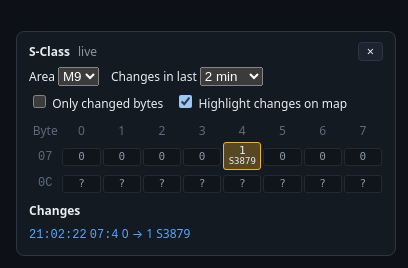
Test case: SClassMiniPanel (Milestone 65) › live: shows the bits and changes, and highlights what just changed and what's picked
expect the text "S3879" is shown: met, box [229, 156, 256, 166]
# Turning off change highlighting and picking the route bit highlights just the route.
Click the checkbox labelled "Highlight changes on map" at (186, 101), box [179, 95, 192, 108]
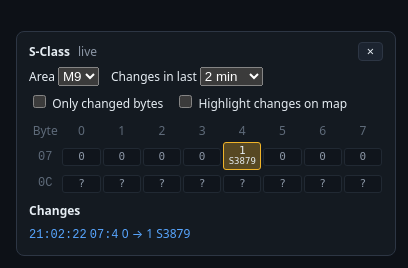
Click the 5th button titled "0C:4 = unknown" at (242, 184), box [223, 175, 261, 193]
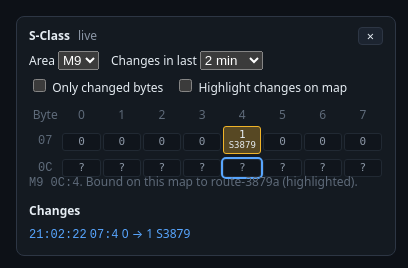
expect the text "M9 0C:4. Bound on this map to route-3879a (highlighted)." is shown: met, box [29, 173, 383, 192]
